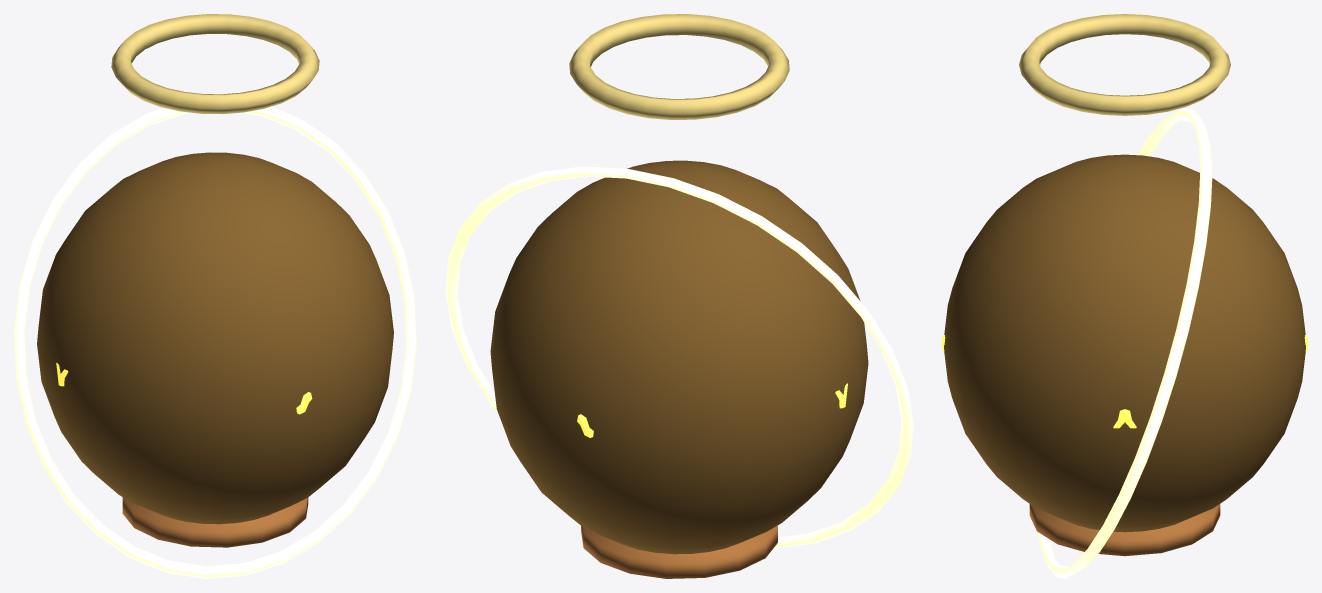
The model's file is egg_volcano_10.glb.
3 views of the same model, side by side, from view 1: azimuth 30°, elevation 25°; view 2: azimuth 150°, elevation 25°; view 3: azimuth 270°, elevation 25° (orthographic). The views are drawn at different scales.
Parts seen in each view (by area): view 1: ball; view 2: ball; view 3: ball.
Boxes of the visible parts, x1,y1,x2,y2 form: ball: [14, 14, 416, 578]; ball: [445, 14, 913, 578]; ball: [942, 14, 1307, 578].
Size of the model in its own units: 1.12 by 1.27 by 0.8451.
